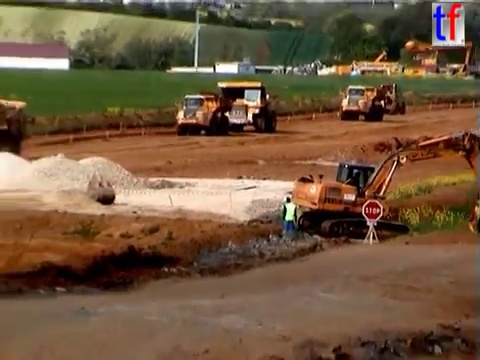crane: (402, 36, 475, 81)
excavator: (290, 127, 480, 243)
truck: (209, 79, 283, 134), (172, 90, 237, 138), (1, 96, 37, 160), (337, 84, 388, 123), (367, 82, 408, 115)
worker: (279, 195, 300, 243), (278, 189, 297, 224)
